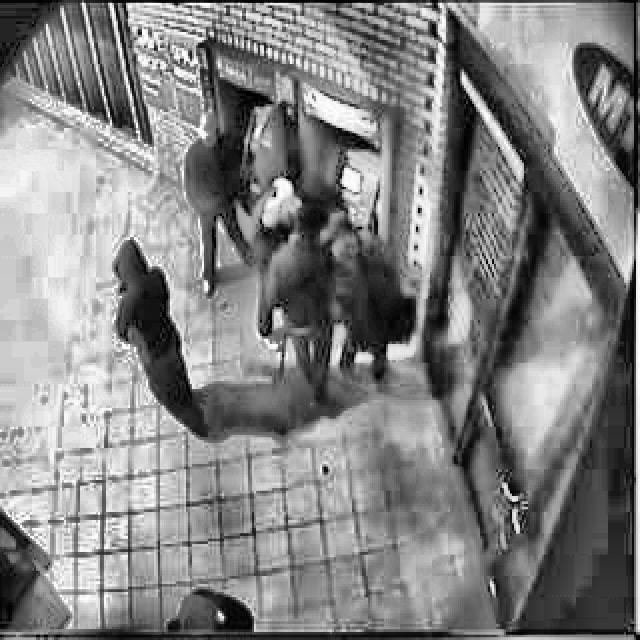burglary: (180, 90, 420, 410)
